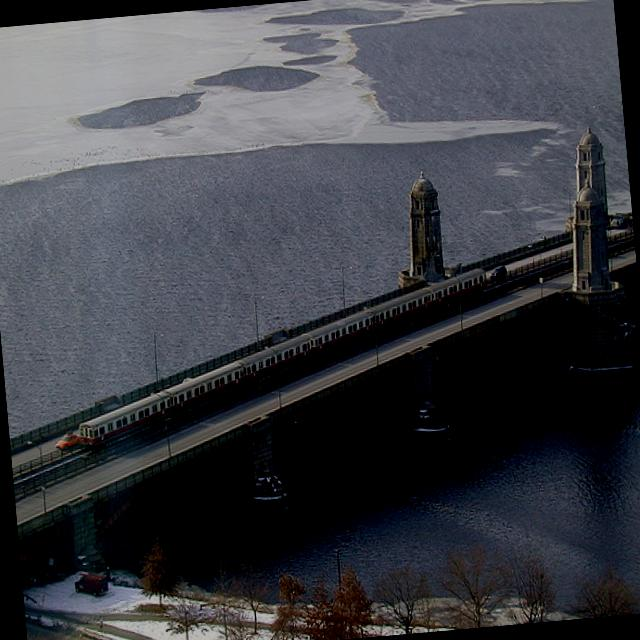Vehicle: (71, 570, 109, 598), (72, 570, 108, 598), (52, 430, 80, 451), (487, 262, 508, 280), (609, 212, 626, 228)
